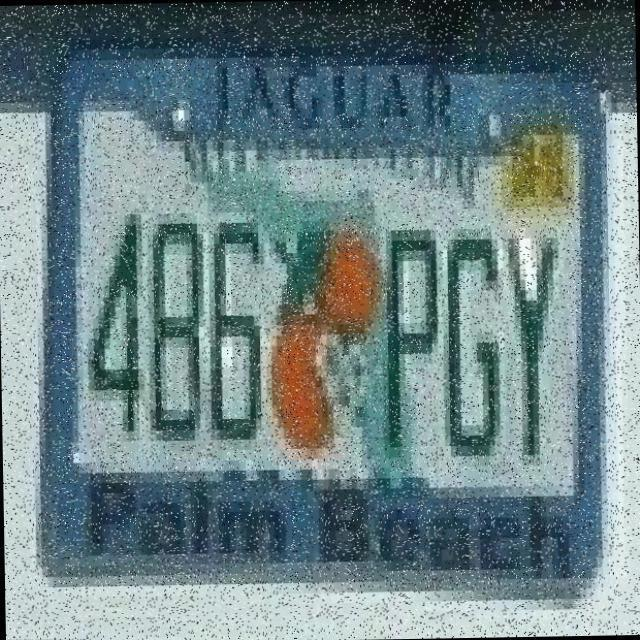License Plate: (41, 18, 631, 594)
